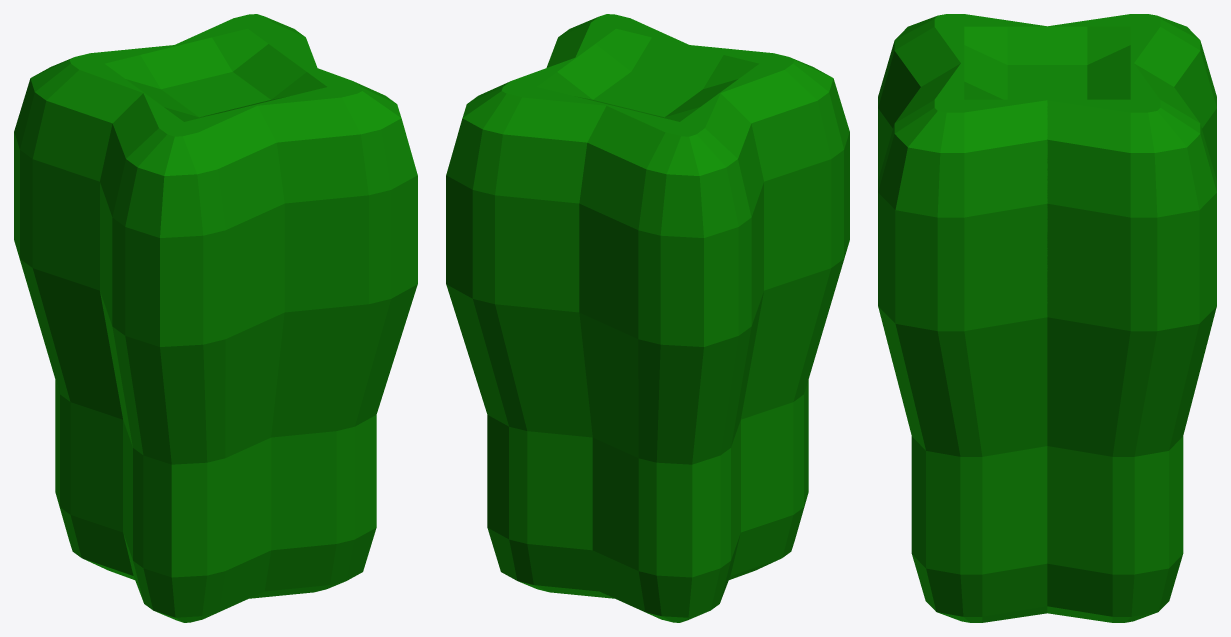
The model's file is pepper.fbx.
3 renders of one model, left to right at view 1: azimuth 30°, elevation 25°; view 2: azimuth 150°, elevation 25°; view 3: azimuth 270°, elevation 25°, orthographic. The views are drawn at different scales.
Parts seen in each view (by area): view 1: Cube; view 2: Cube; view 3: Cube.
Part boxes in pixels (<box>): Cube: <box>14,14,417,622</box>; Cube: <box>446,14,849,622</box>; Cube: <box>878,14,1216,622</box>.
Bounding box in the file's own units: 257 × 428 × 252.
